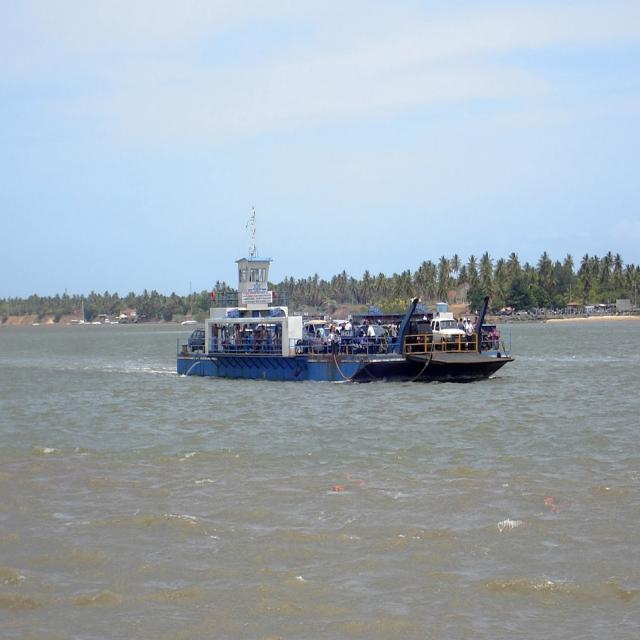cargoship: (176, 246, 511, 384)
